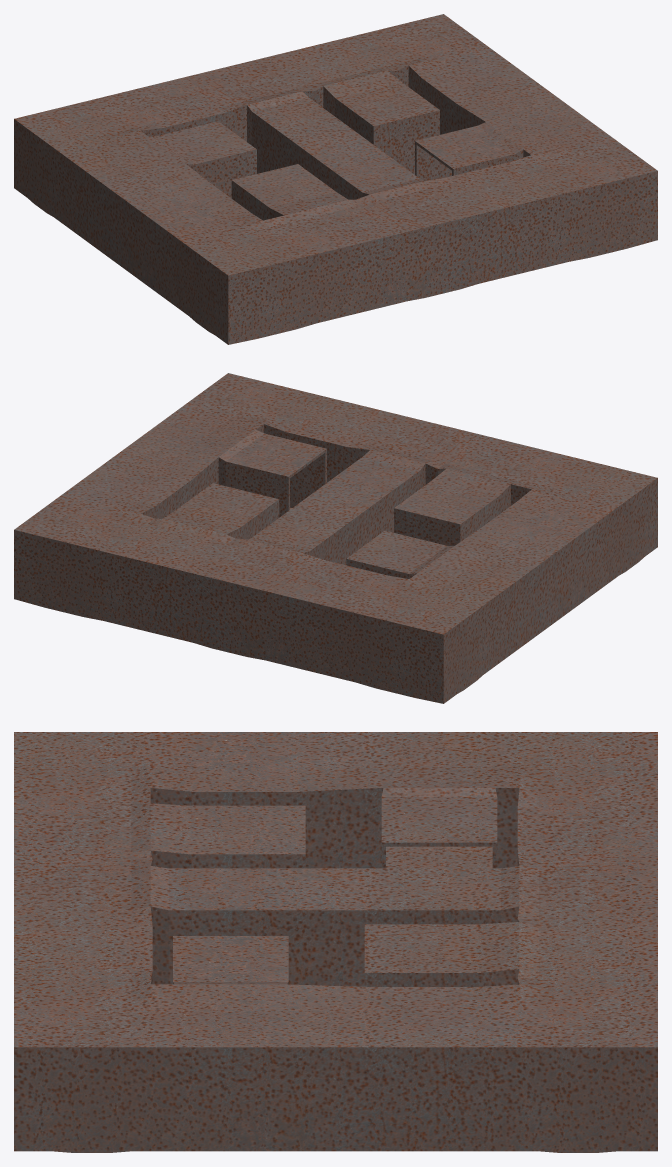
File: SM_NeoLD_05_Metal_00.fbx
The picture shows the model from 3 angles, top to bottom: view 1: azimuth 30°, elevation 25°; view 2: azimuth 150°, elevation 25°; view 3: azimuth 270°, elevation 25°; orthographic projection. The views are drawn at different scales.
Parts seen in each view (by area): view 1: SM_NeoLD_05_Metal_00; view 2: SM_NeoLD_05_Metal_00; view 3: SM_NeoLD_05_Metal_00.
Part boxes in pixels (x1,y1,x2,y2): SM_NeoLD_05_Metal_00: (14, 14, 657, 344); SM_NeoLD_05_Metal_00: (14, 373, 657, 703); SM_NeoLD_05_Metal_00: (14, 732, 657, 1152).
Bounding box in the file's own units: 2616 × 445 × 2259.
